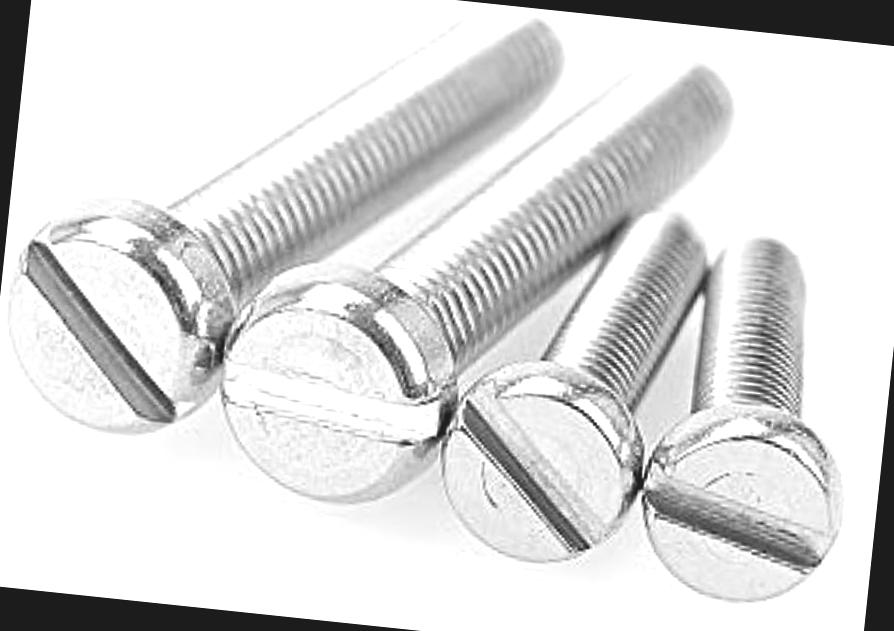screw: (211, 249, 465, 510), (0, 184, 248, 449), (430, 351, 648, 574), (632, 394, 849, 616)
